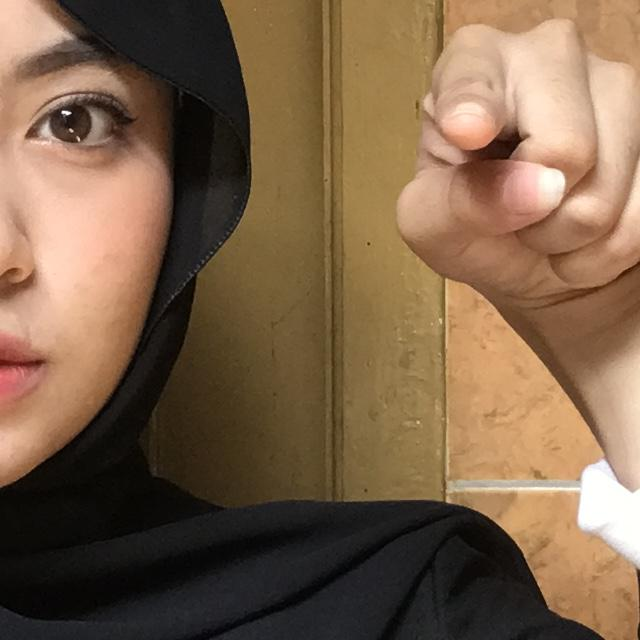kamu: (240, 0, 640, 586)
